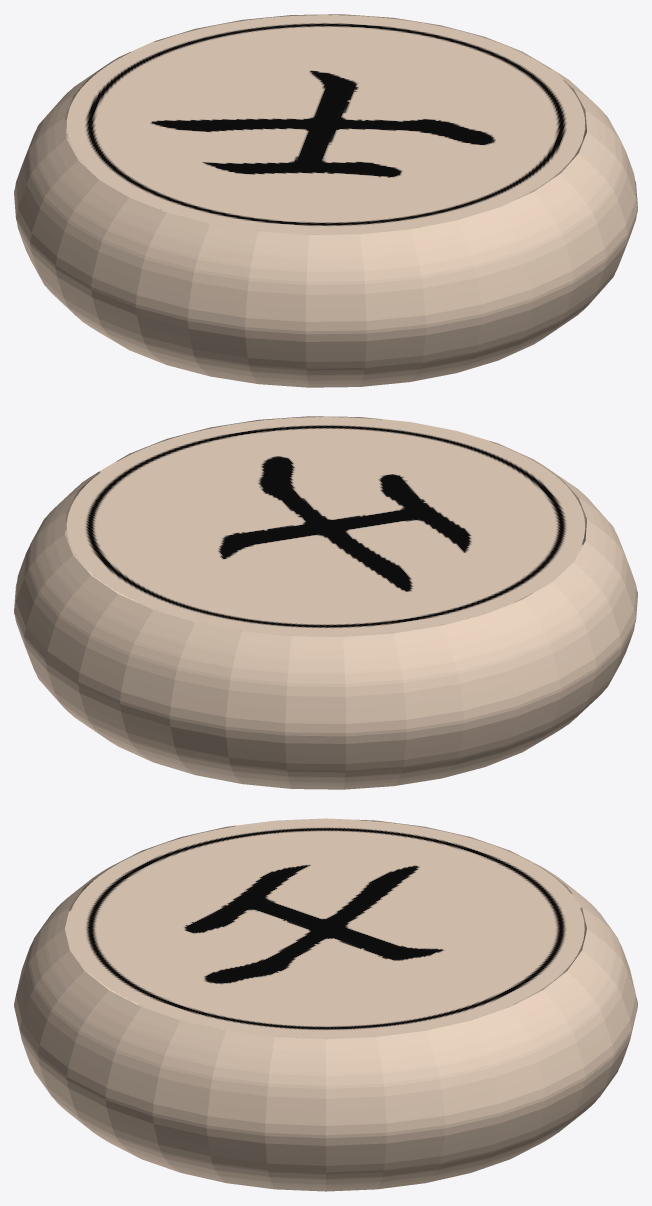
Rendered from black_guard.fbx.
3 views of the same model, one above another, from view 1: azimuth 30°, elevation 25°; view 2: azimuth 150°, elevation 25°; view 3: azimuth 270°, elevation 25° (orthographic).
Visible parts, largest first — view 1: Black Guard; view 2: Black Guard; view 3: Black Guard.
Boxes of the visible parts, x1=… form: Black Guard: x1=14, y1=14, x2=637, y2=387; Black Guard: x1=14, y1=416, x2=637, y2=789; Black Guard: x1=14, y1=818, x2=637, y2=1191.
Bounding box in the file's own units: 245 × 66.11 × 245.
Materials: 2 (1 with a texture image).
